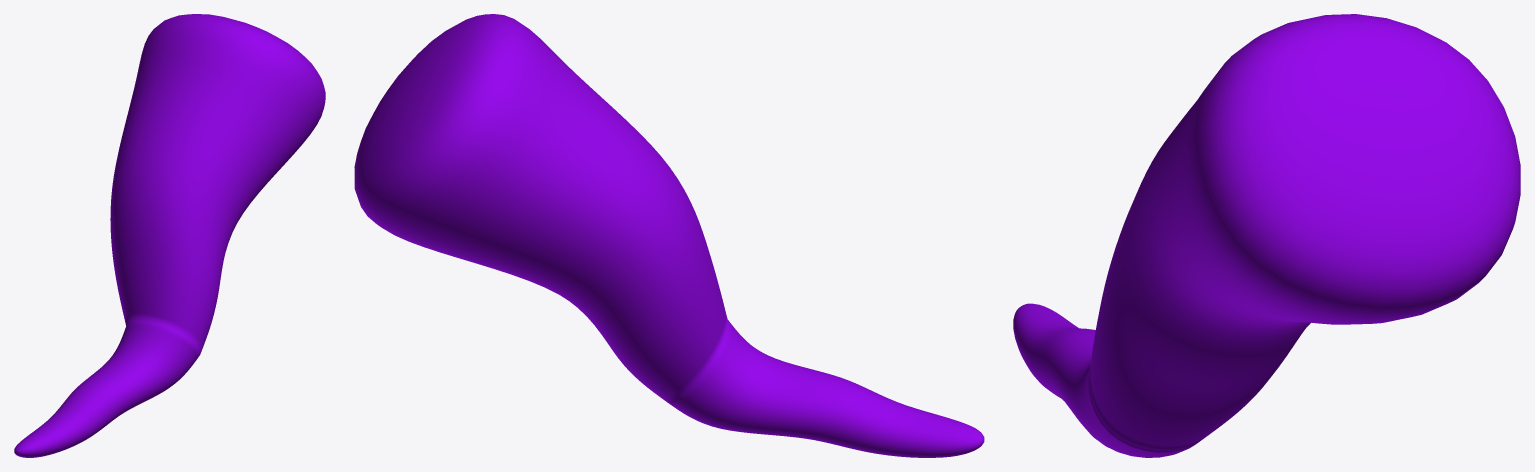
File: Tentacolo1.fbx
The picture shows the model from 3 angles, left to right: view 1: azimuth 30°, elevation 25°; view 2: azimuth 150°, elevation 25°; view 3: azimuth 270°, elevation 25°; orthographic projection. The views are drawn at different scales.
Visible parts, largest first — view 1: Tentacolo; view 2: Tentacolo; view 3: Tentacolo.
Part boxes in pixels (x1,y1,x2,y2): Tentacolo: (14,14,325,457); Tentacolo: (354,14,984,457); Tentacolo: (1013,14,1520,457).
Bounding box in the file's own units: 118 × 93.71 × 77.31.
